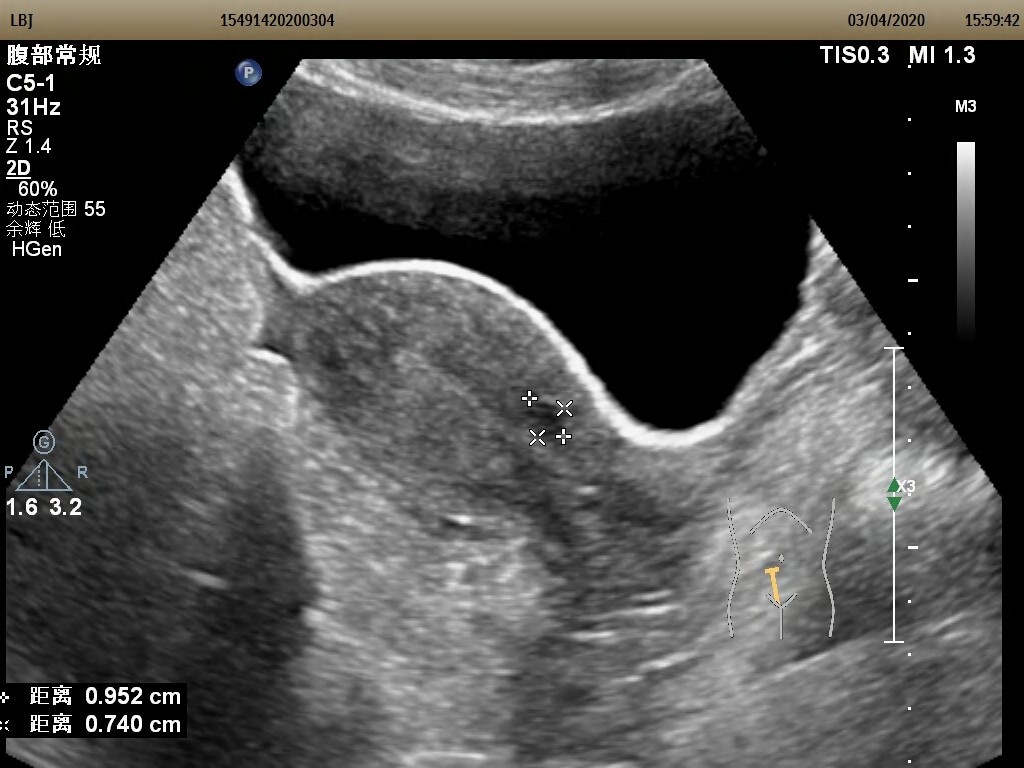肌瘤: (529, 397, 568, 437)
